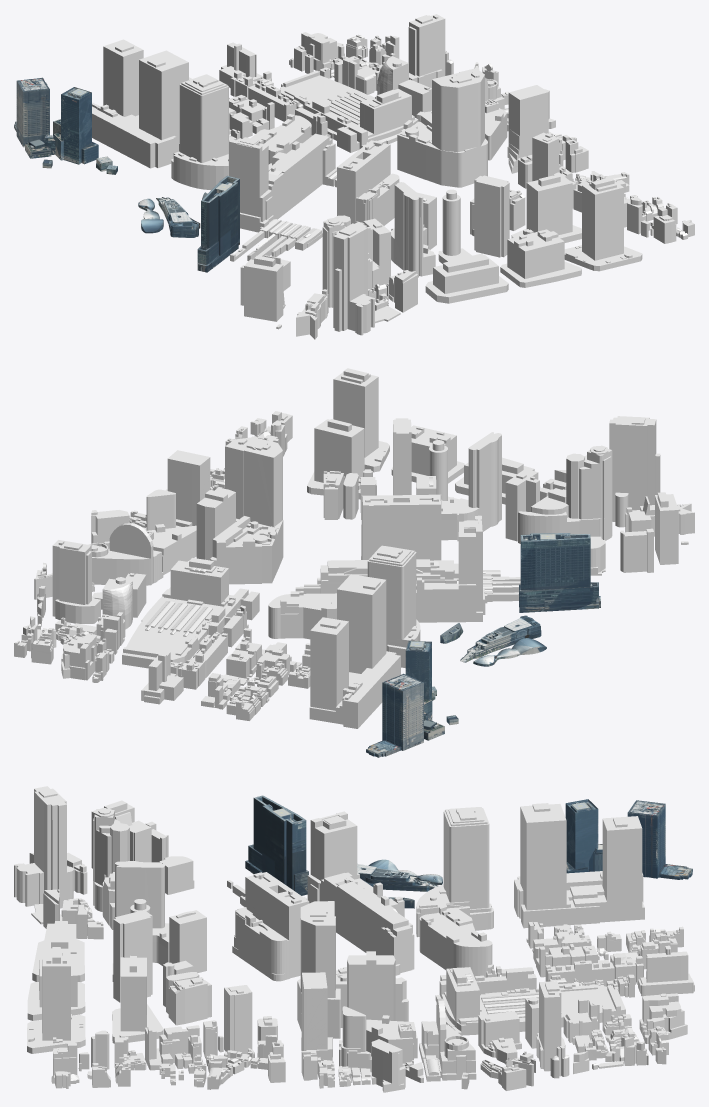
File: osaka-station-district.glb
3 renders of one model, top to bottom at view 1: azimuth 30°, elevation 25°; view 2: azimuth 150°, elevation 25°; view 3: azimuth 270°, elevation 25°, orthographic. The views are drawn at different scales.
Size of the model in its own units: 827 by 191 by 1016.
Materials: 10 (3 with a texture image).
